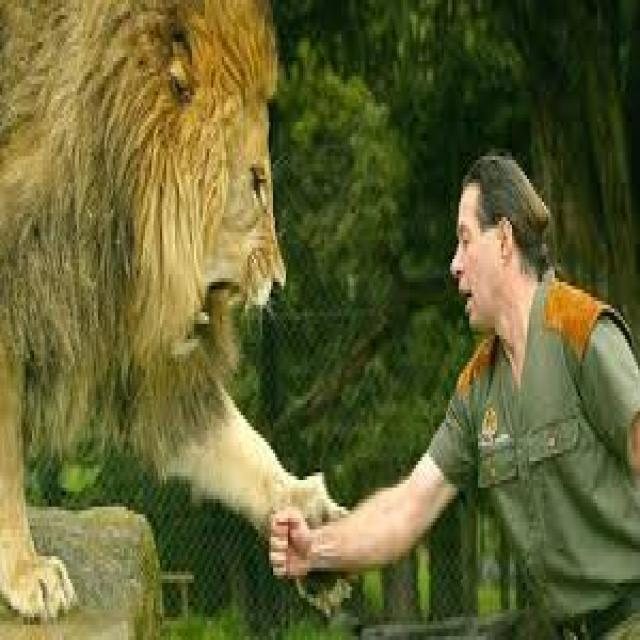Lion: (0, 0, 326, 625)
